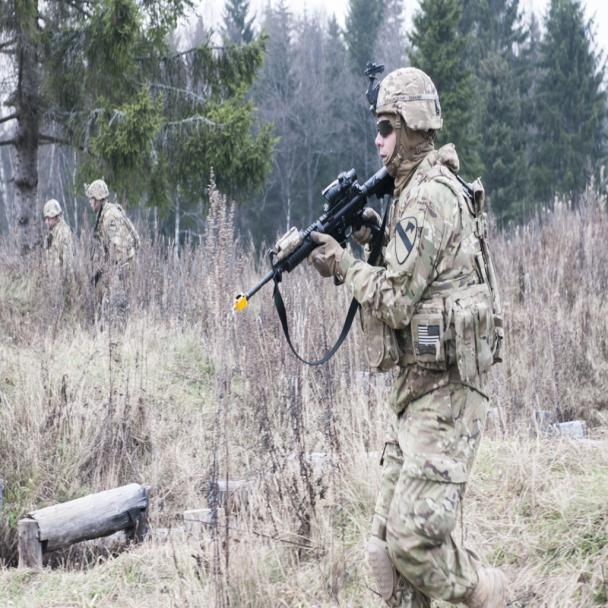Gun: (233, 165, 402, 316)
Hand: (306, 224, 350, 298)
